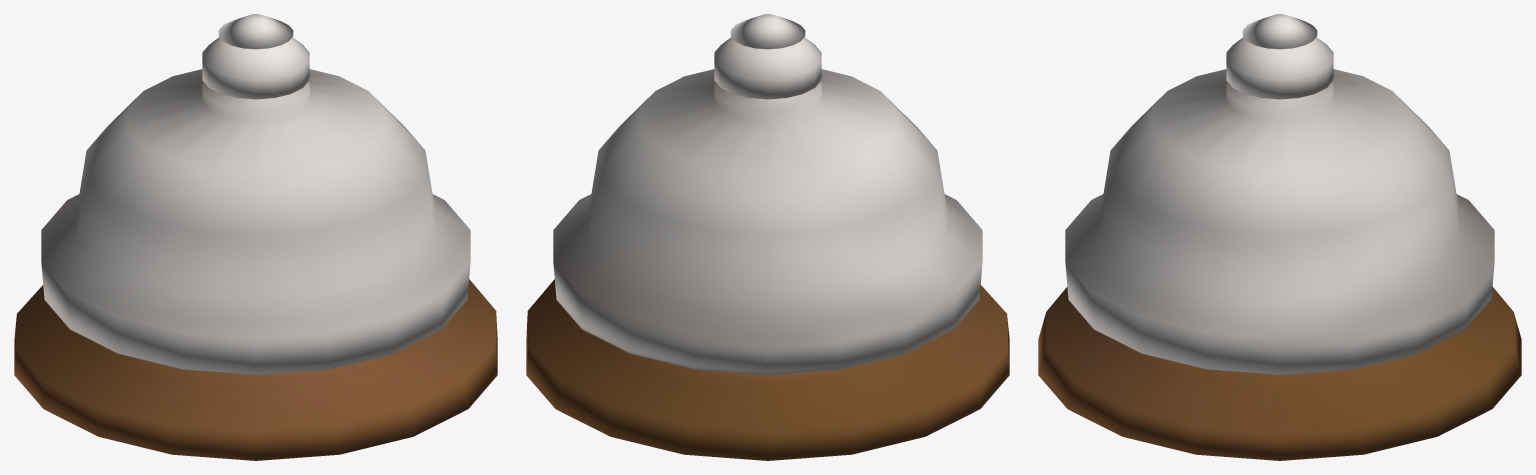
The model's file is Ring.fbx.
3 views of the same model, side by side, from view 1: azimuth 30°, elevation 25°; view 2: azimuth 150°, elevation 25°; view 3: azimuth 270°, elevation 25° (orthographic).
Visible parts, largest first — view 1: Cylinder002_1; view 2: Cylinder002_1; view 3: Cylinder002_1.
Boxes of the visible parts, x1=… form: Cylinder002_1: x1=14, y1=14, x2=497, y2=460; Cylinder002_1: x1=526, y1=14, x2=1009, y2=460; Cylinder002_1: x1=1038, y1=14, x2=1521, y2=460.
Size of the model in its own units: 6.16 by 4.71 by 6.07.
1 material, 1 textured.
